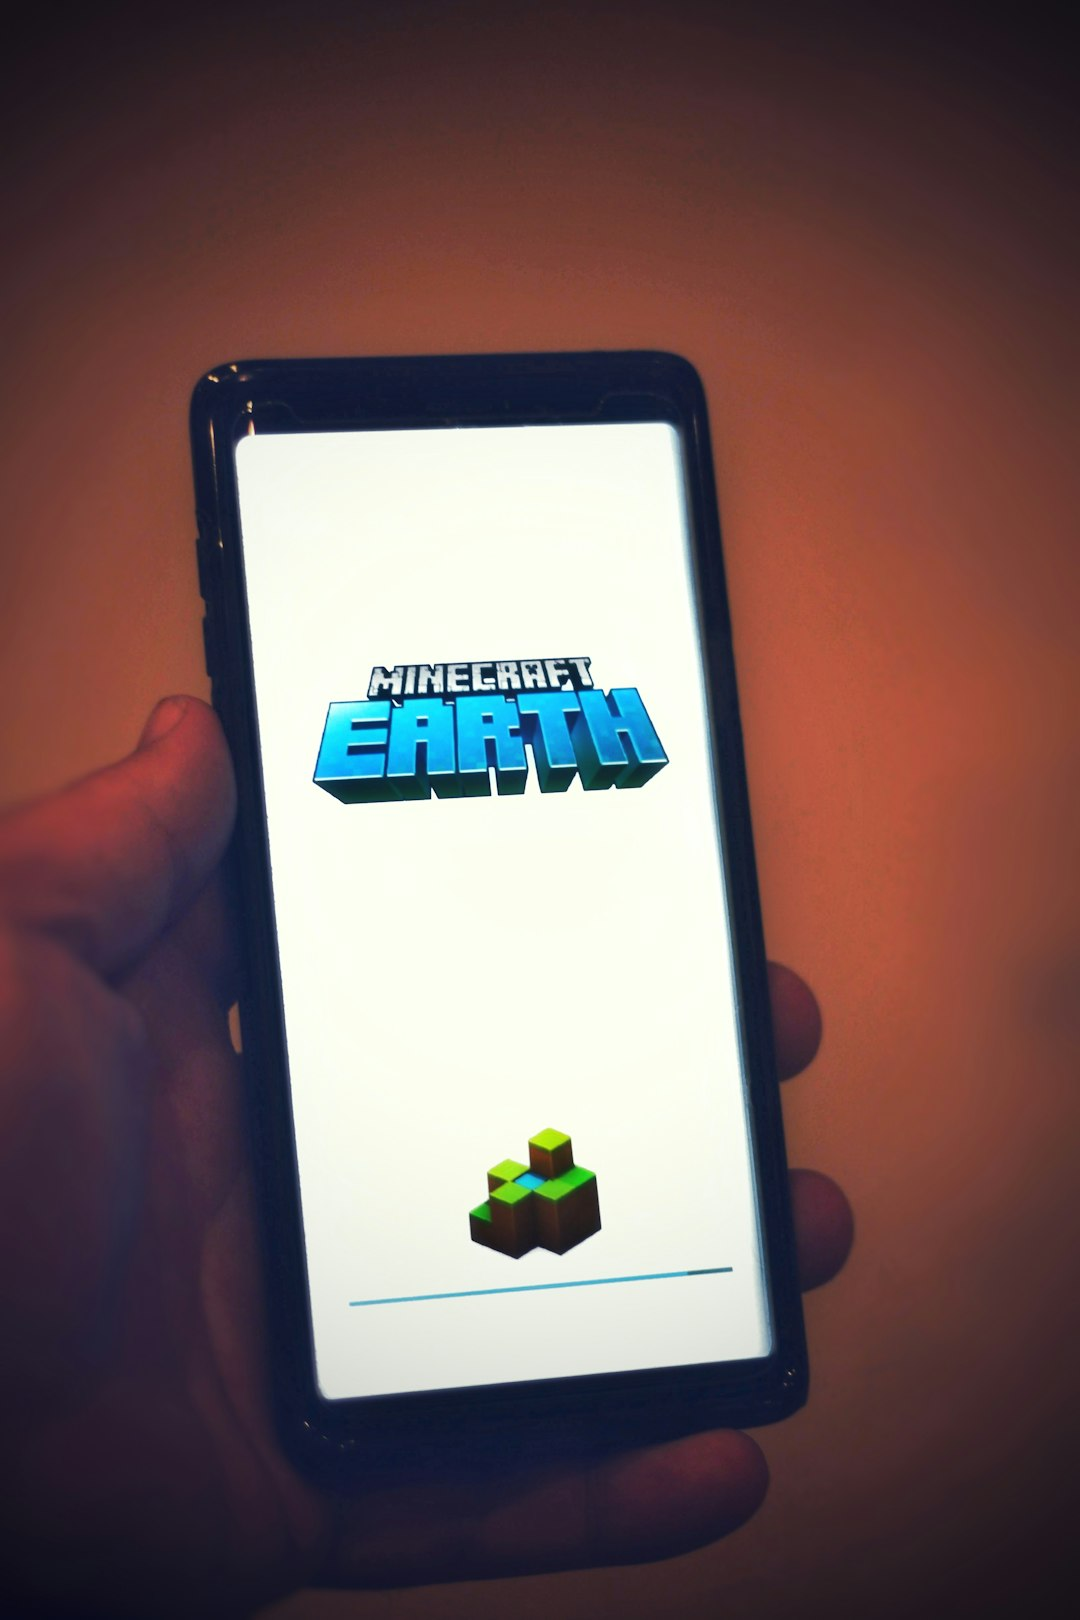phone: (180, 335, 818, 1471)
